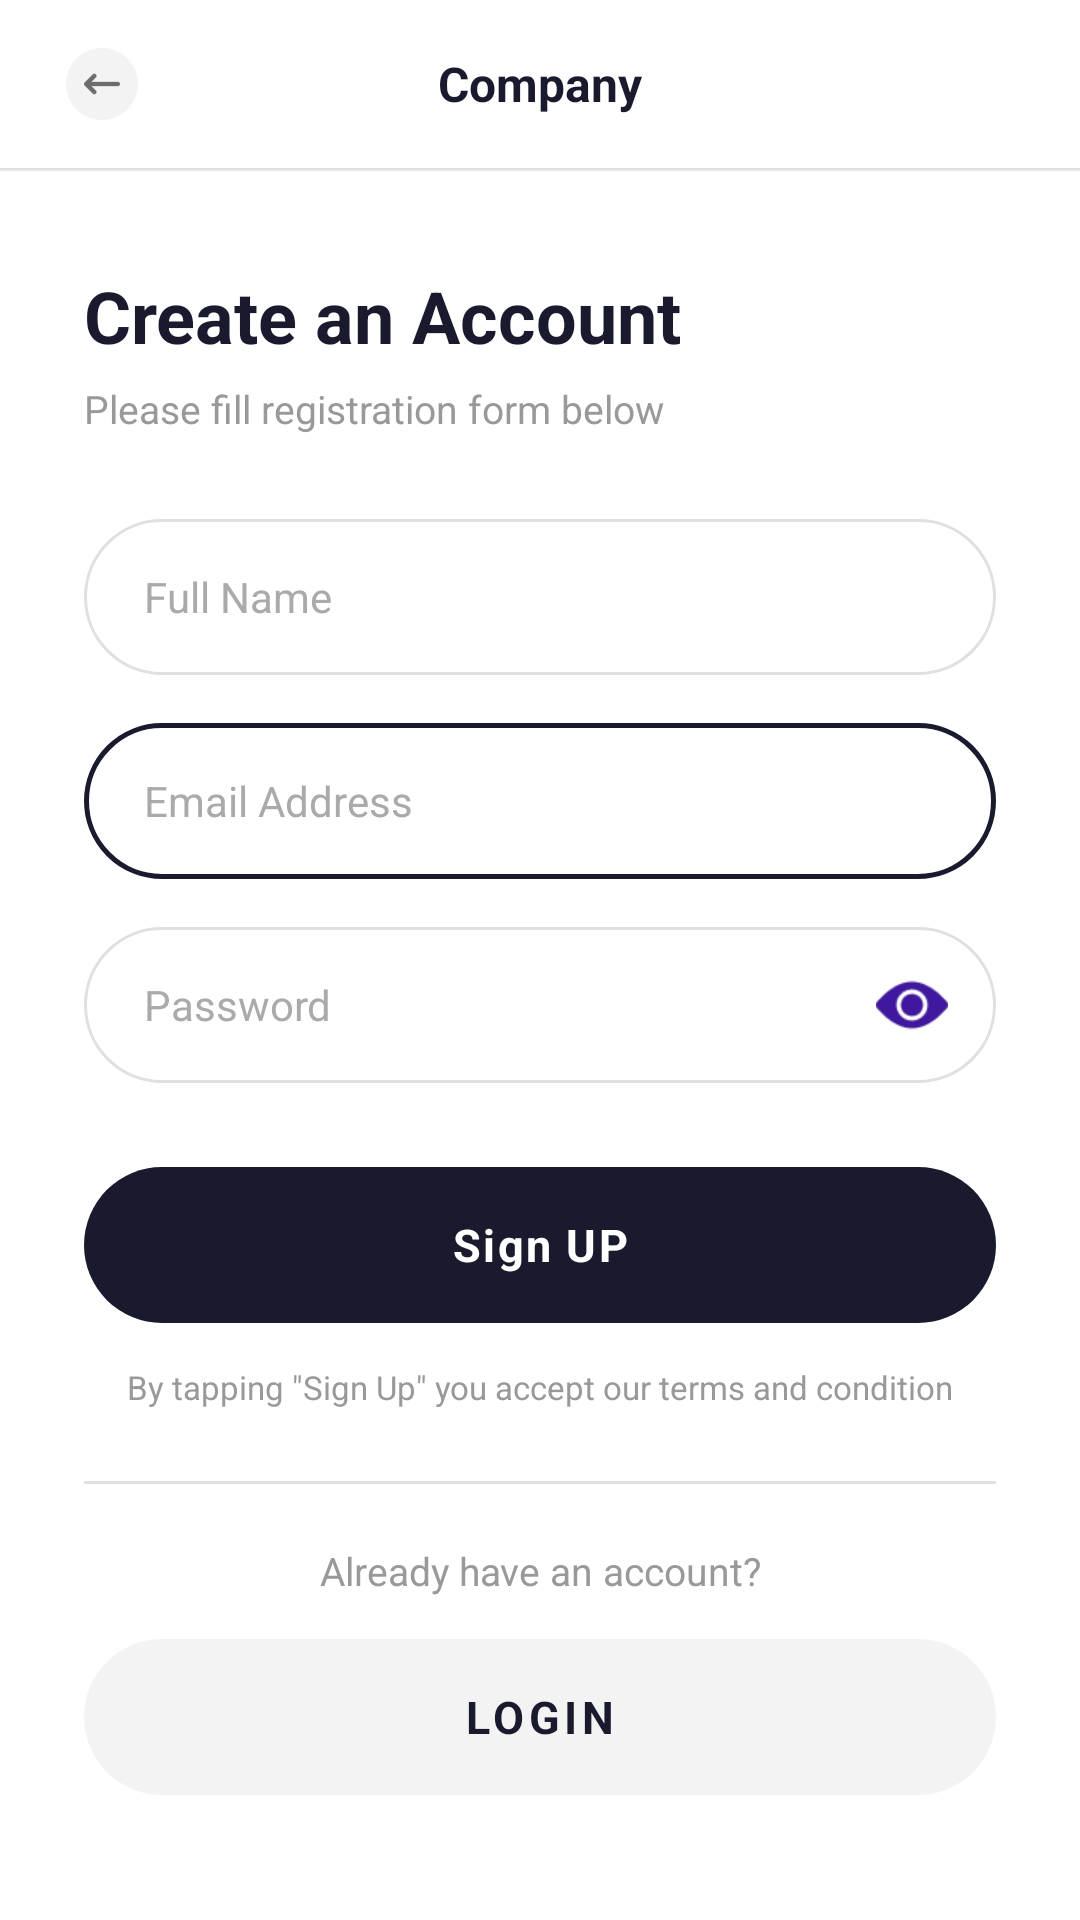

Icons on this 1080 × 1920 Android screen, each with its box as (x1, y1, x2, y2):
Back: (66, 48, 138, 120)
